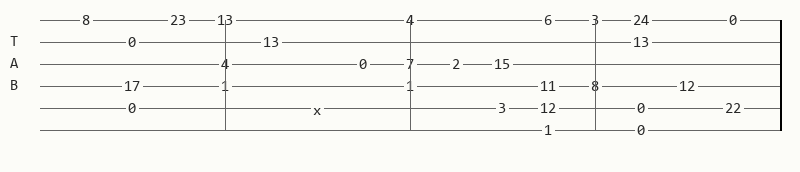0: (128, 35, 140, 49), (128, 101, 140, 115), (359, 57, 371, 71), (637, 101, 649, 115), (637, 123, 649, 137), (729, 13, 741, 27)
1: (221, 79, 233, 93), (406, 79, 418, 93), (544, 123, 556, 137)
11: (540, 79, 560, 93)
12: (540, 101, 560, 115), (679, 79, 699, 93)
13: (217, 13, 237, 27), (263, 35, 283, 49), (633, 35, 653, 49)
15: (494, 57, 514, 71)
17: (124, 79, 144, 93)
2: (452, 57, 464, 71)
22: (725, 101, 745, 115)
23: (170, 13, 190, 27)
24: (633, 13, 653, 27)
3: (498, 101, 510, 115), (591, 13, 603, 27)
4: (221, 57, 233, 71), (406, 13, 418, 27)
6: (544, 13, 556, 27)
7: (406, 57, 418, 71)
8: (82, 13, 94, 27), (591, 79, 603, 93)
x: (313, 103, 325, 114)
